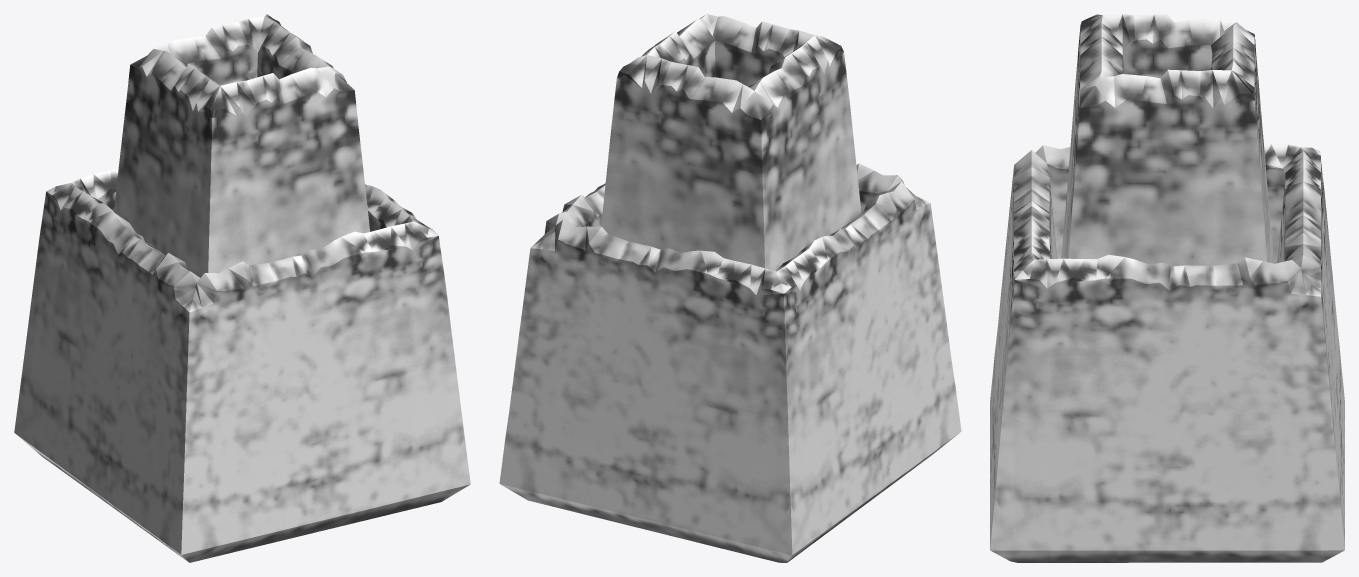
File: Ruins_tower00b.fbx
3 renders of one model, left to right at view 1: azimuth 30°, elevation 25°; view 2: azimuth 150°, elevation 25°; view 3: azimuth 270°, elevation 25°, orthographic. The views are drawn at different scales.
Parts seen in each view (by area): view 1: Ruins_tower00b, Ruins_tower01; view 2: Ruins_tower00b, Ruins_tower01; view 3: Ruins_tower00b, Ruins_tower01.
Boxes of the visible parts, box(x1,y1,x2,y2) form: Ruins_tower00b: box(14, 168, 470, 562); Ruins_tower01: box(114, 14, 369, 277); Ruins_tower00b: box(499, 163, 961, 562); Ruins_tower01: box(601, 14, 861, 270); Ruins_tower00b: box(990, 144, 1344, 562); Ruins_tower01: box(1061, 14, 1273, 266).
Bounding box in the file's own units: 356 × 503 × 356.
